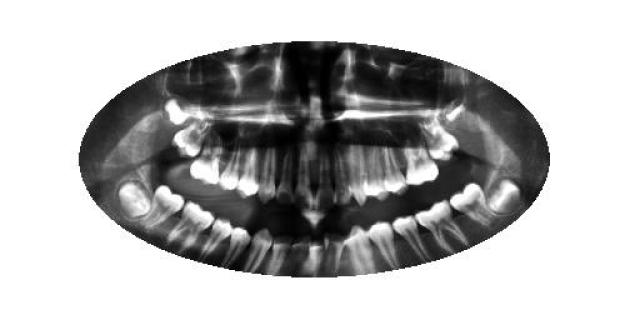Restorations: (115, 178, 154, 222), (486, 176, 524, 218)
